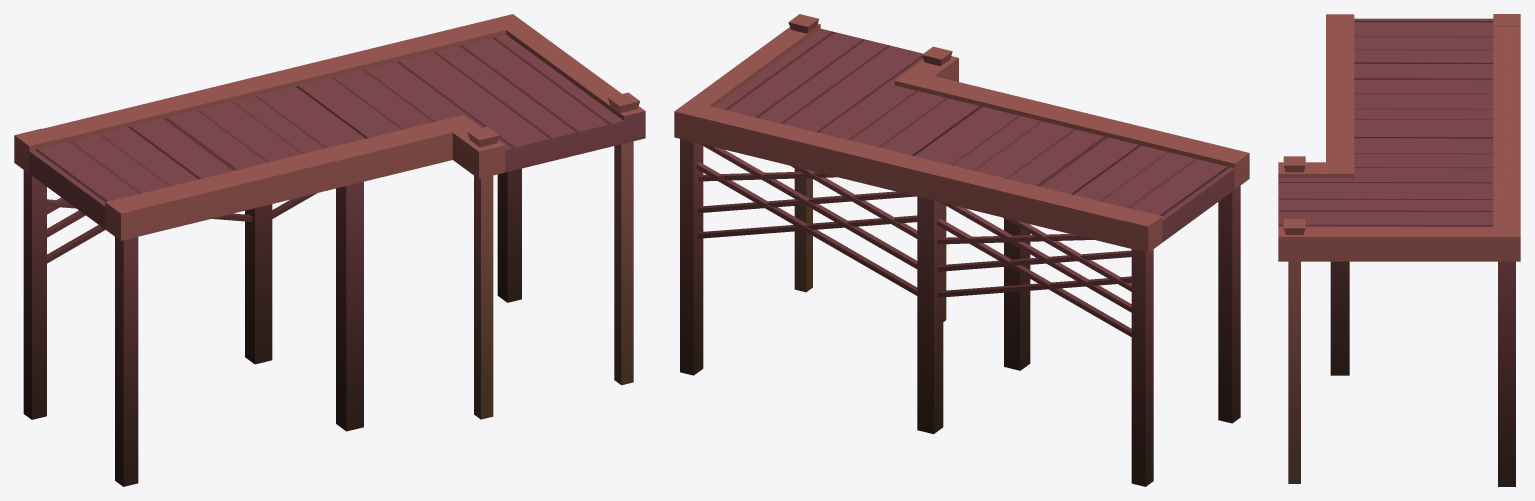
The model's file is Pier.fbx.
3 renders of one model, left to right at view 1: azimuth 30°, elevation 25°; view 2: azimuth 150°, elevation 25°; view 3: azimuth 270°, elevation 25°, orthographic. The views are drawn at different scales.
Visible parts, largest first — view 1: pCube18; view 2: pCube18; view 3: pCube18.
Part boxes in pixels (box(x1,y1,x2,y2)): pCube18: box(14, 14, 645, 486); pCube18: box(674, 14, 1249, 486); pCube18: box(1278, 14, 1520, 486).
Size of the model in its own units: 10.87 by 5.95 by 5.01.
